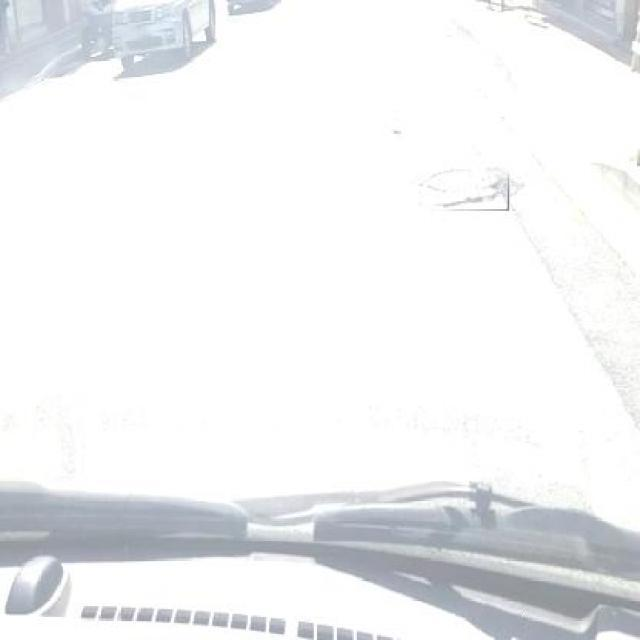Manhole: (416, 168, 509, 210)
Pothole: (448, 16, 527, 98), (587, 154, 640, 213), (496, 178, 527, 202), (394, 126, 404, 138)
